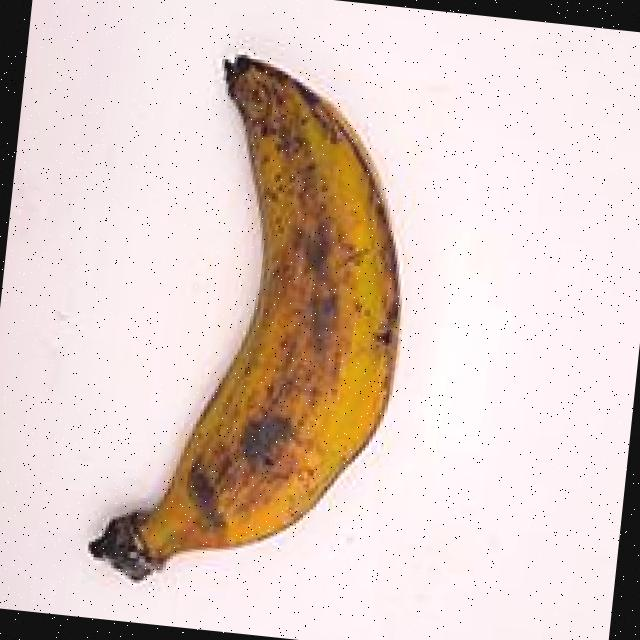Overripe: (32, 0, 453, 635)
